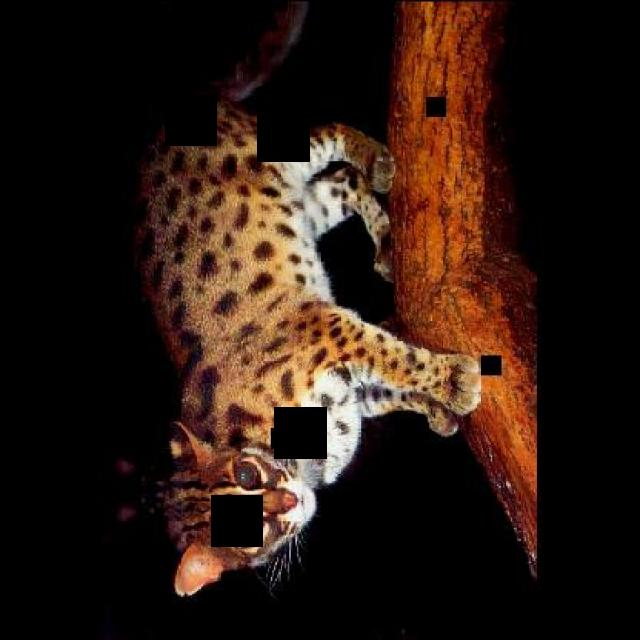unauthorized: (130, 0, 481, 598)
